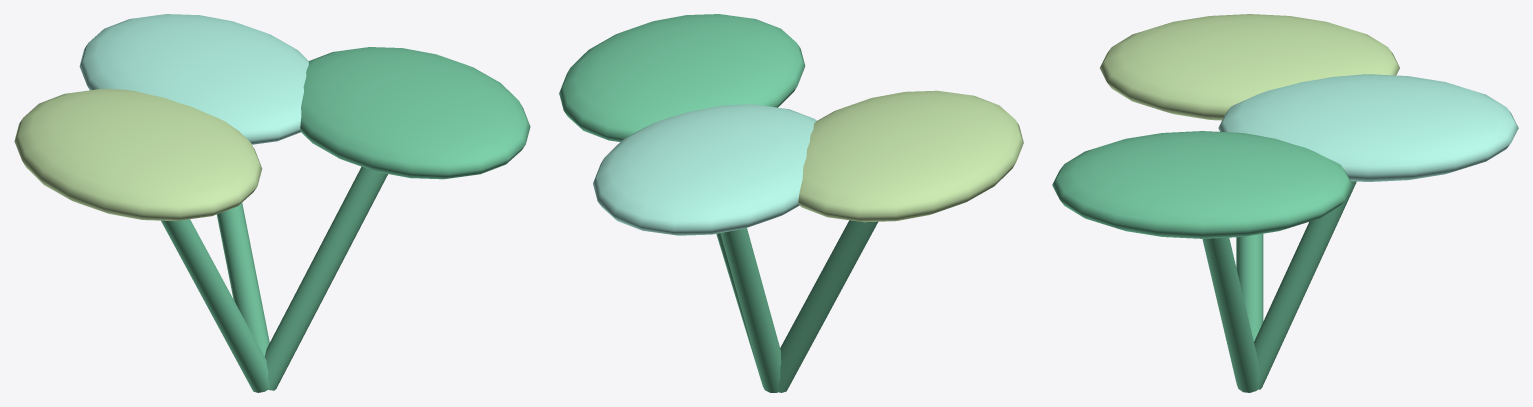
File: st_rain_leaves.glb
3 renders of one model, left to right at view 1: azimuth 30°, elevation 25°; view 2: azimuth 150°, elevation 25°; view 3: azimuth 270°, elevation 25°, orthographic.
Visible parts, largest first — view 1: Broad_Jungle_Leaves; view 2: Broad_Jungle_Leaves; view 3: Broad_Jungle_Leaves.
Boxes of the visible parts, bbox=[...] form: Broad_Jungle_Leaves: bbox=[14, 14, 530, 392]; Broad_Jungle_Leaves: bbox=[559, 14, 1023, 392]; Broad_Jungle_Leaves: bbox=[1052, 14, 1518, 392].
Size of the model in its own units: 1.26 by 0.8002 by 1.18.
